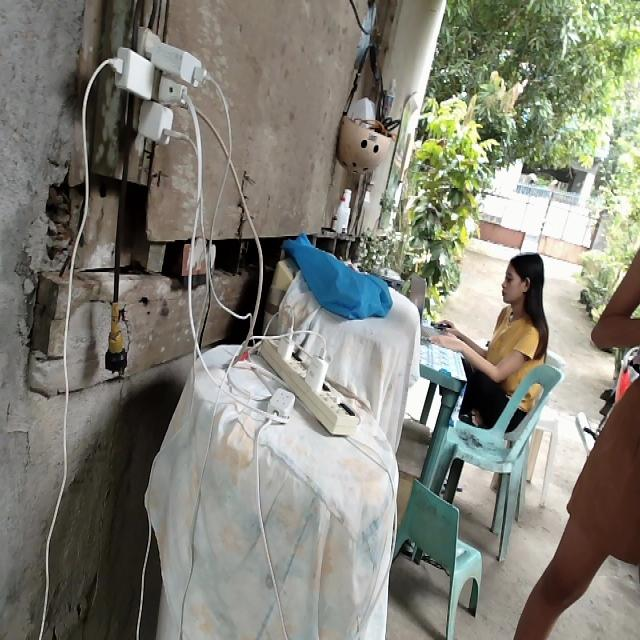-: (107, 19, 221, 154)
